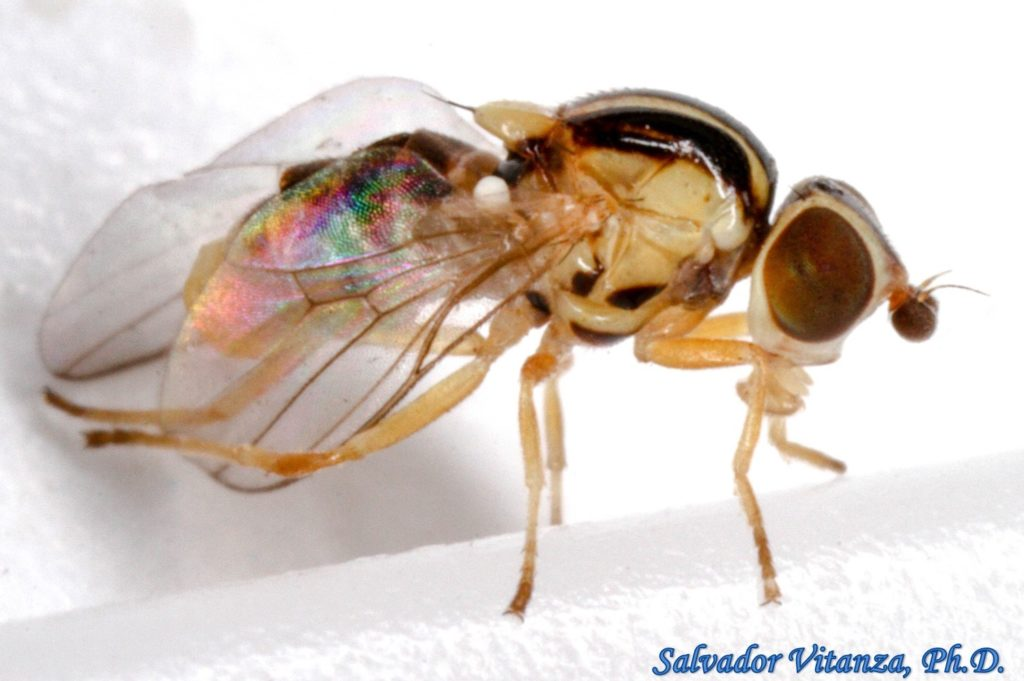Chloropidae: (32, 70, 981, 628)
